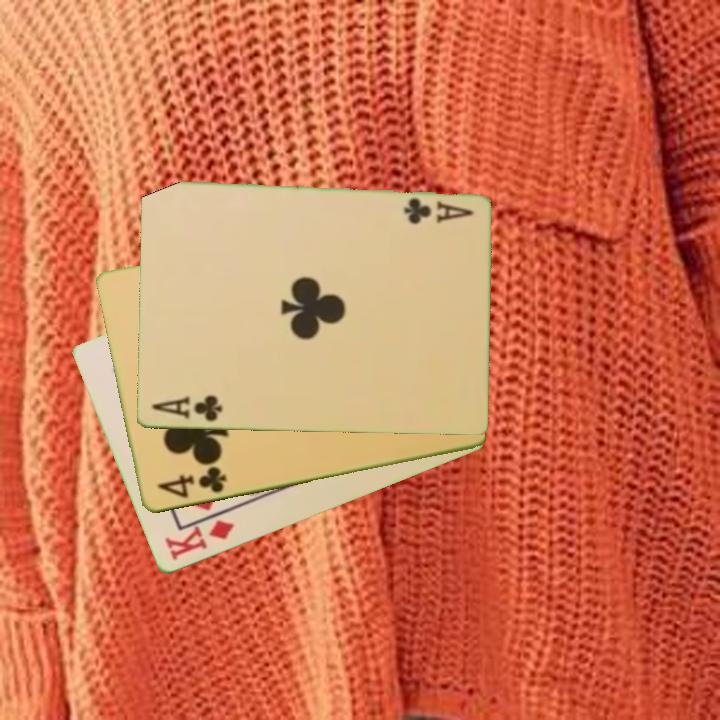4c: (154, 463, 229, 502)
Ac: (148, 392, 224, 425), (399, 195, 476, 225)
Kd: (161, 517, 237, 565)
